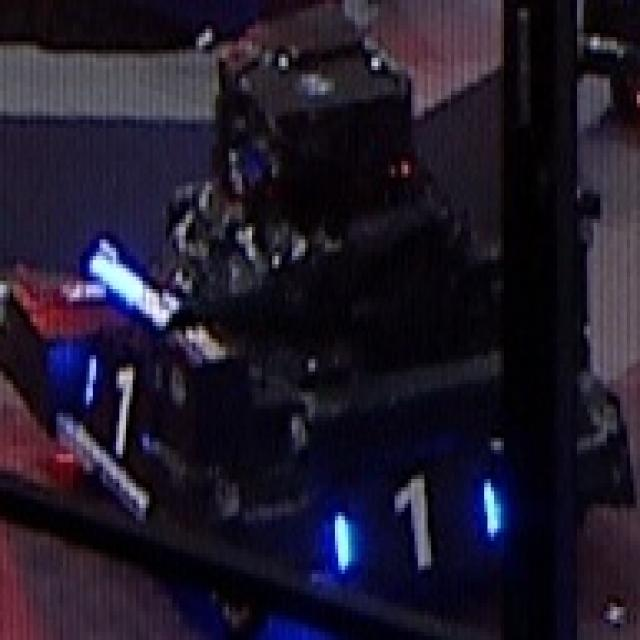B1: (325, 462, 504, 586), (79, 339, 156, 454)
